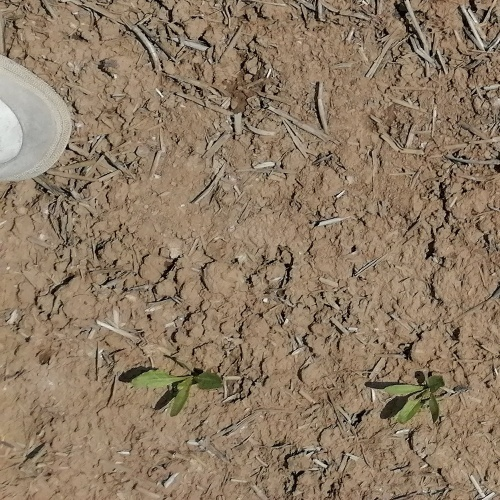beet: (129, 363, 224, 418), (384, 376, 444, 425)
